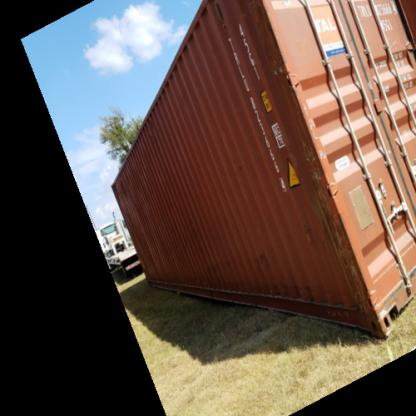Damage: (307, 163, 364, 280), (251, 7, 292, 85), (214, 250, 268, 274), (142, 108, 160, 140), (113, 175, 129, 201)
